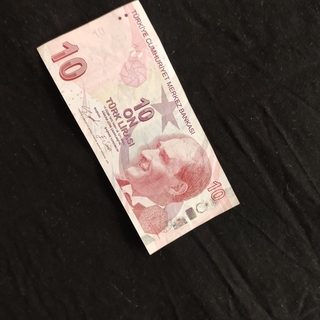10TLFront: (35, 0, 242, 256)
